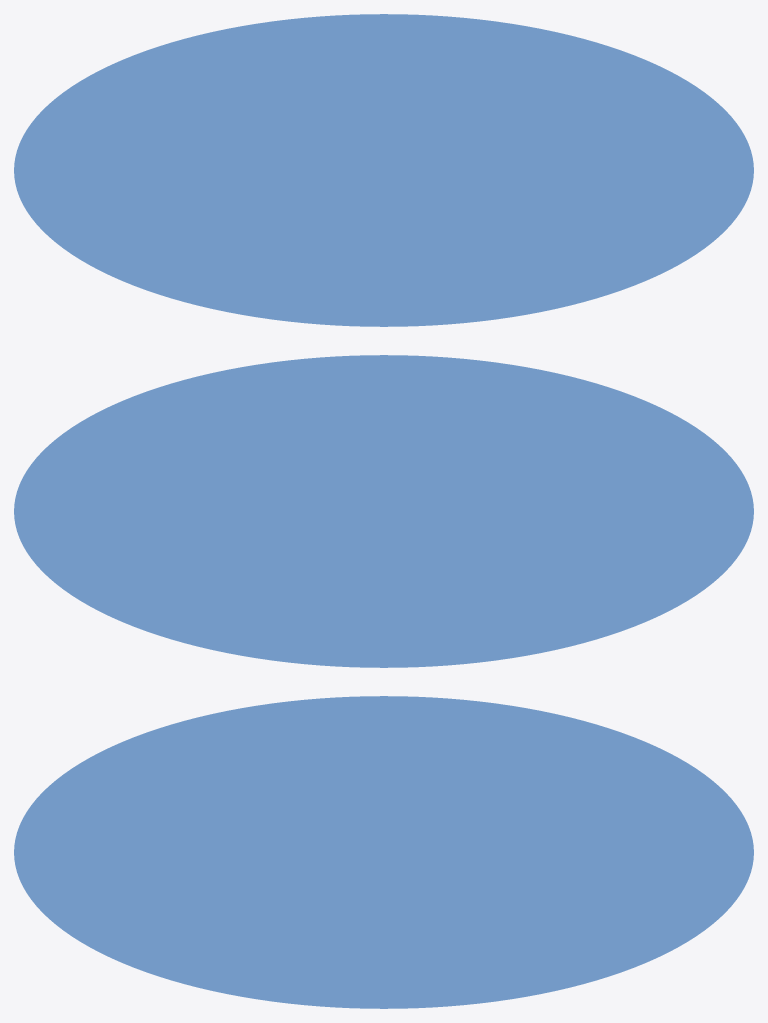
File: water-waves-lite.glb
The picture shows the model from 3 angles, top to bottom: view 1: azimuth 30°, elevation 25°; view 2: azimuth 150°, elevation 25°; view 3: azimuth 270°, elevation 25°; orthographic projection.
Parts seen in each view (by area): view 1: WaterWavesLite; view 2: WaterWavesLite; view 3: WaterWavesLite.
Boxes of the visible parts, left/top/right/bottom form: WaterWavesLite: left=14, top=14, right=753, bottom=326; WaterWavesLite: left=14, top=355, right=753, bottom=667; WaterWavesLite: left=14, top=696, right=753, bottom=1008.
Bounding box in the file's own units: 736 × 0 × 736.
